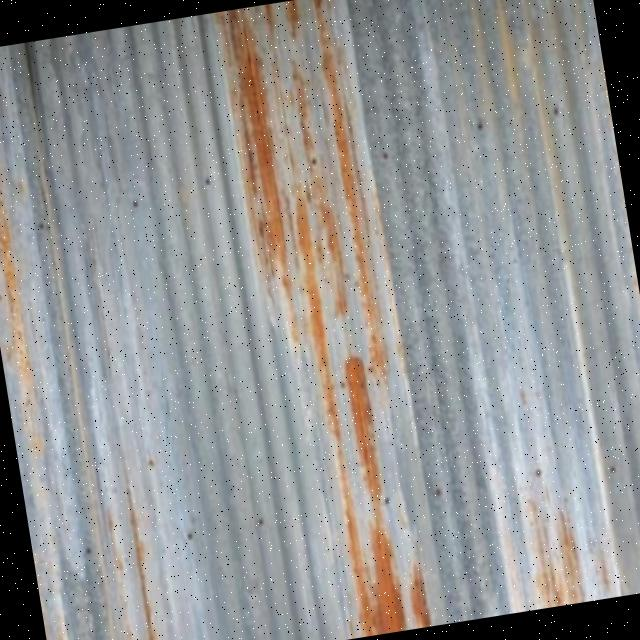Corrosion: (0, 0, 640, 640), (211, 0, 446, 640)
